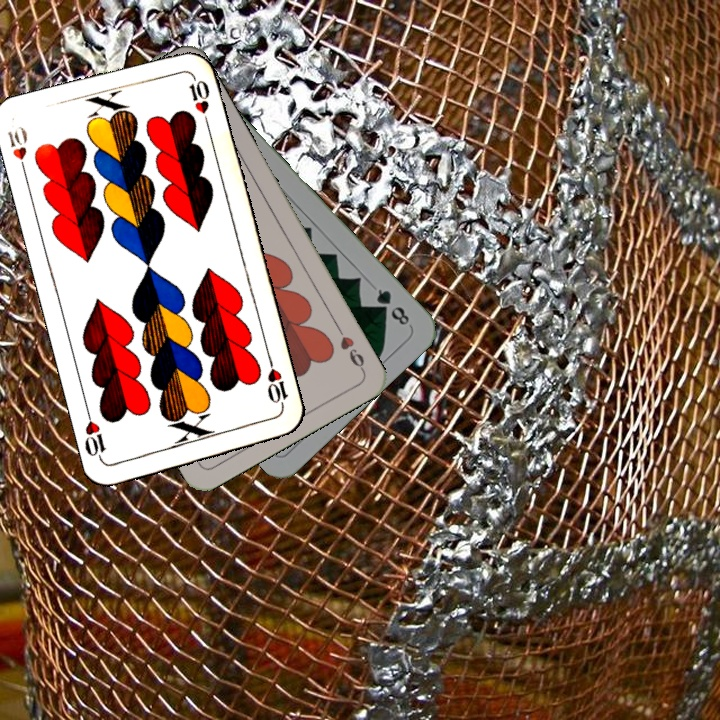G8: (372, 284, 412, 329)
H10: (263, 355, 291, 413), (3, 121, 30, 180)
H9: (331, 320, 367, 374)
